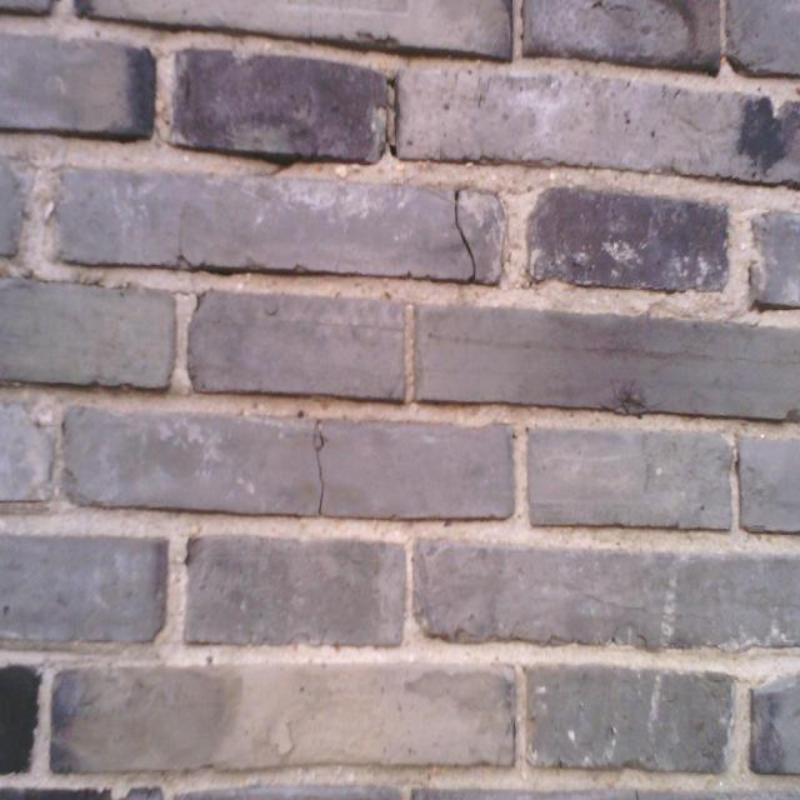pothole: (455, 190, 476, 285), (315, 432, 326, 514), (268, 158, 295, 176), (386, 79, 396, 88), (390, 145, 396, 156)
